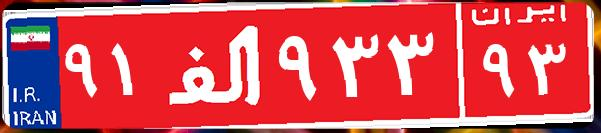1: (110, 28, 158, 105)
3: (385, 28, 445, 110), (330, 28, 385, 110), (525, 38, 570, 115)
9: (273, 28, 330, 110), (57, 26, 110, 107), (475, 38, 525, 113)
الف: (158, 15, 273, 115)
